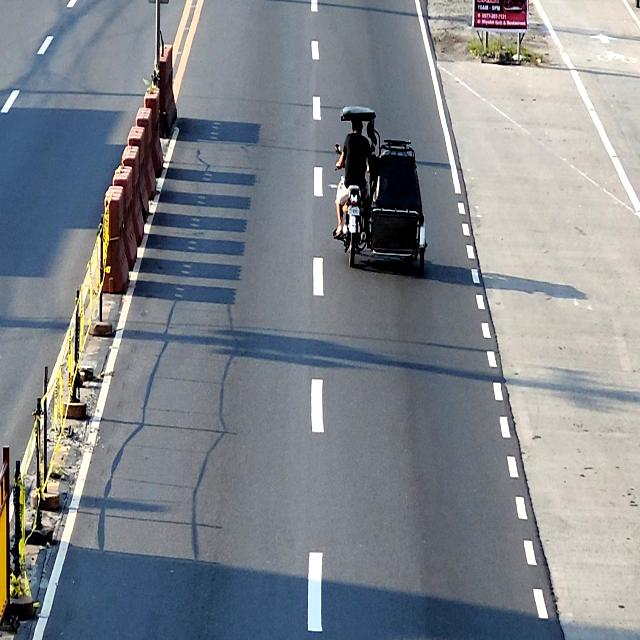License-Plate: (347, 205, 360, 216)
Tricycle: (335, 106, 426, 272)
